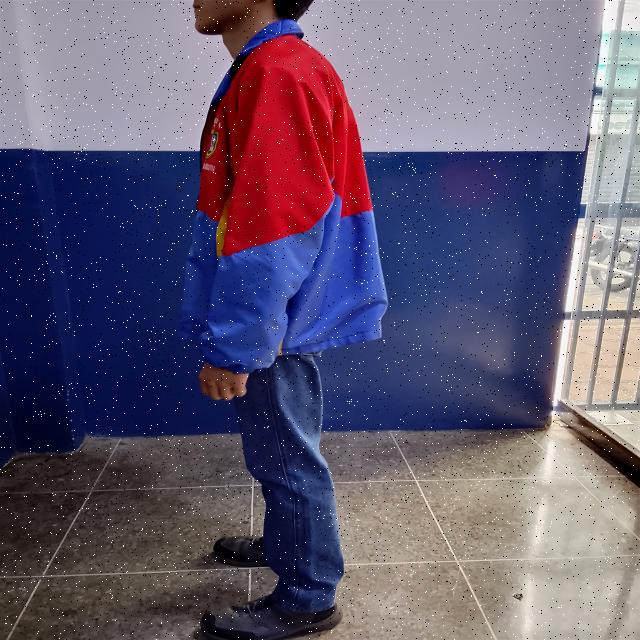chaqueta_unefa: (176, 19, 390, 375)
